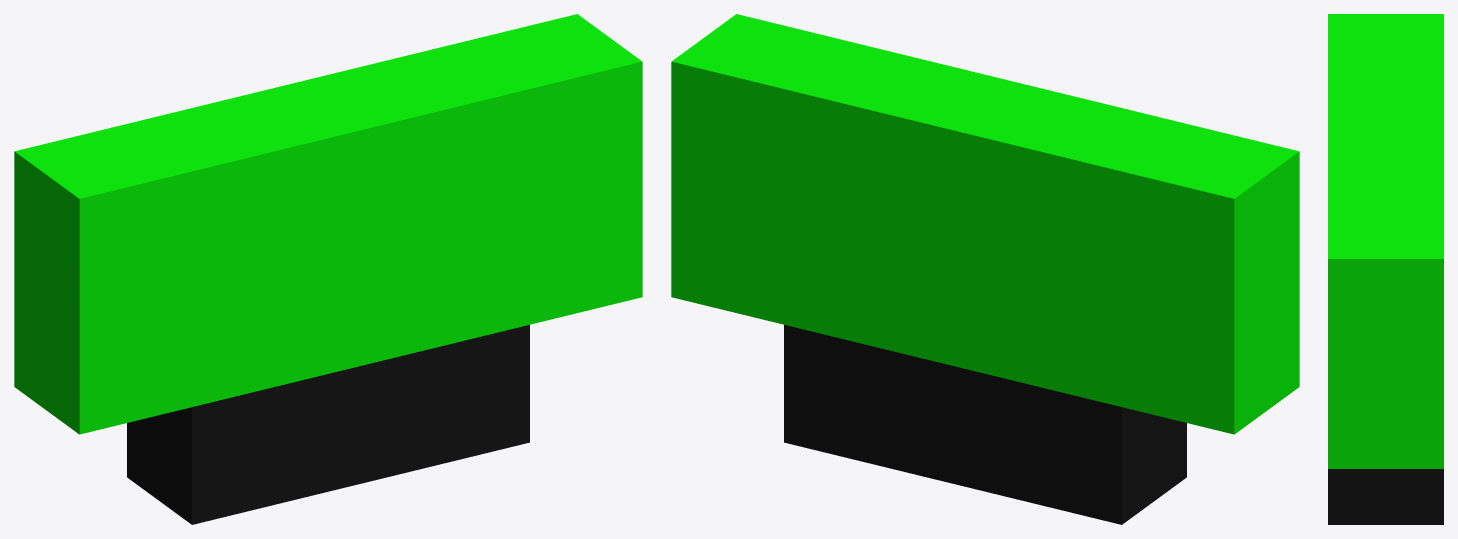
The model's file is recolor_eyeR.fbx.
3 views of the same model, side by side, from view 1: azimuth 30°, elevation 25°; view 2: azimuth 150°, elevation 25°; view 3: azimuth 270°, elevation 25° (orthographic). The views are drawn at different scales.
Parts seen in each view (by area): view 1: recolor_eyeR; view 2: recolor_eyeR; view 3: recolor_eyeR.
Boxes of the visible parts, x1,y1,x2,y2 form: recolor_eyeR: (14,14,642,524); recolor_eyeR: (671,14,1299,524); recolor_eyeR: (1328,14,1443,524).
Bounding box in the file's own units: 5 × 3 × 1.
1 material, 1 textured.
